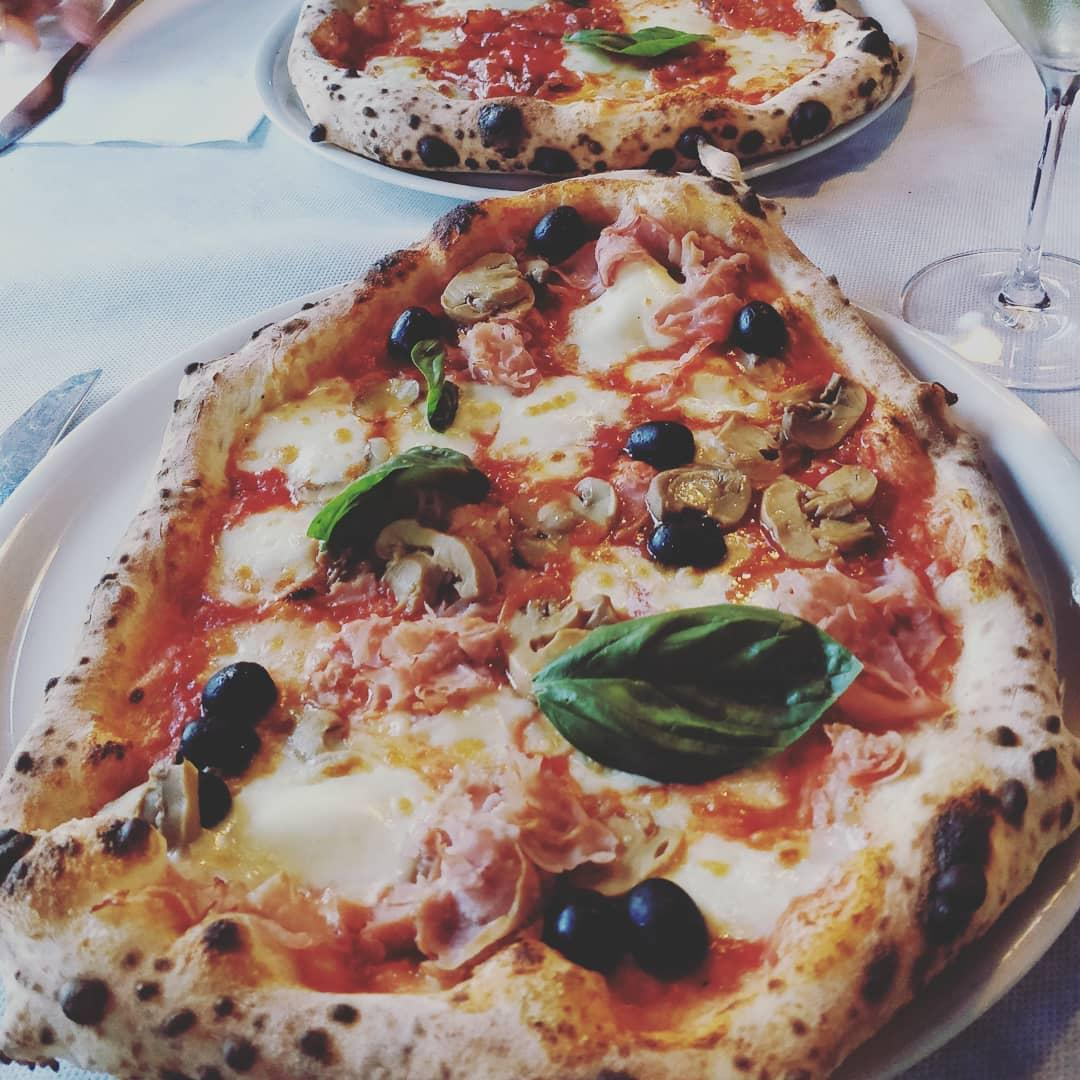Basil: (529, 595, 867, 795), (305, 442, 488, 573), (561, 18, 723, 68), (410, 334, 463, 437)
Ham: (322, 748, 612, 960), (310, 600, 513, 712), (608, 204, 743, 364), (455, 318, 550, 401)
Mushroom: (758, 460, 890, 566), (368, 513, 502, 610), (772, 373, 876, 465), (437, 237, 539, 317), (642, 461, 757, 530), (534, 470, 626, 543)
Olives: (620, 864, 715, 988), (538, 877, 637, 984), (176, 707, 268, 788), (194, 654, 283, 724), (647, 509, 729, 576), (619, 417, 706, 469), (383, 303, 455, 365), (522, 208, 598, 264), (730, 303, 795, 359)
Pizza: (0, 156, 1080, 1080), (268, 0, 902, 178)
